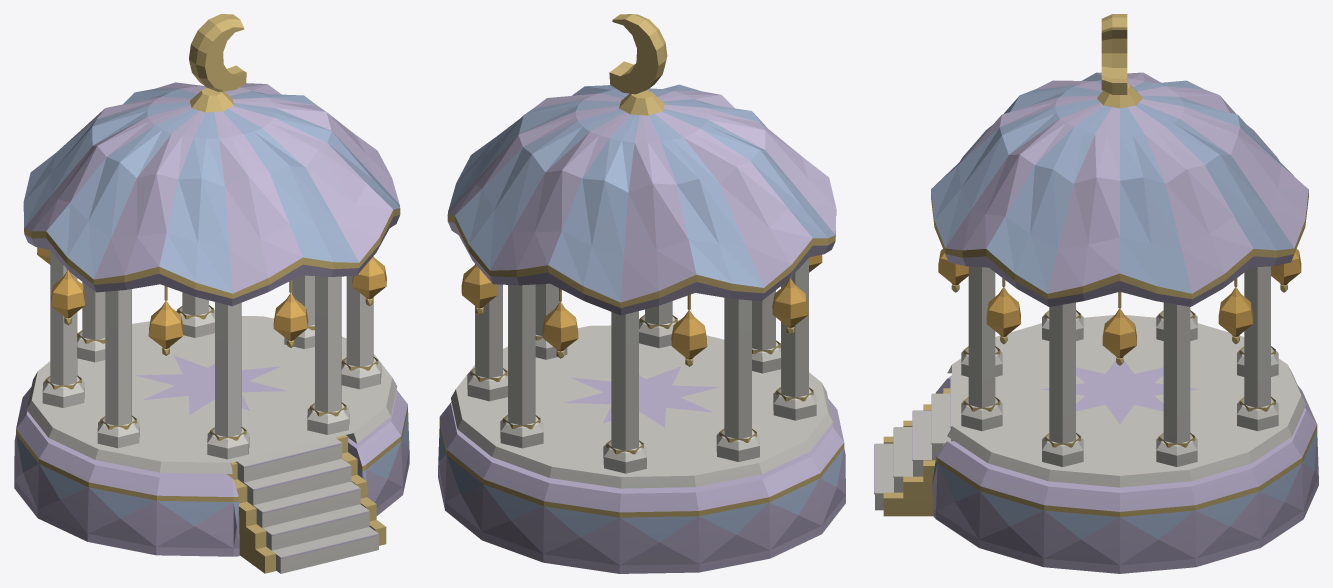
The model's file is pavilion.glb.
3 views of the same model, side by side, from view 1: azimuth 30°, elevation 25°; view 2: azimuth 150°, elevation 25°; view 3: azimuth 270°, elevation 25° (orthographic). The views are drawn at different scales.
Parts seen in each view (by area): view 1: root_mesh, swing4_mesh, swing5_mesh, swing3_mesh, swing6_mesh; view 2: root_mesh, swing2_mesh, swing1_mesh, swing3_mesh, swing0_mesh; view 3: root_mesh, swing7_mesh, swing0_mesh, swing6_mesh, swing5_mesh, swing1_mesh.
Part boxes in pixels (left/top/right/bottom): root_mesh: left=14, top=14, right=409, bottom=573; swing4_mesh: left=148, top=286, right=183, bottom=355; swing5_mesh: left=273, top=280, right=308, bottom=347; swing3_mesh: left=50, top=269, right=85, bottom=325; swing6_mesh: left=352, top=256, right=386, bottom=306; root_mesh: left=438, top=14, right=845, bottom=573; swing2_mesh: left=671, top=294, right=707, bottom=366; swing1_mesh: left=542, top=288, right=578, bottom=358; swing3_mesh: left=772, top=277, right=808, bottom=335; swing0_mesh: left=461, top=264, right=497, bottom=315; root_mesh: left=874, top=14, right=1318, bottom=573; swing7_mesh: left=1102, top=292, right=1136, bottom=365; swing0_mesh: left=1218, top=278, right=1253, bottom=343; swing6_mesh: left=986, top=278, right=1020, bottom=344; swing5_mesh: left=938, top=249, right=968, bottom=292; swing1_mesh: left=1271, top=249, right=1301, bottom=292.
Bounding box in the file's own units: 4.8 × 6 × 5.1.
